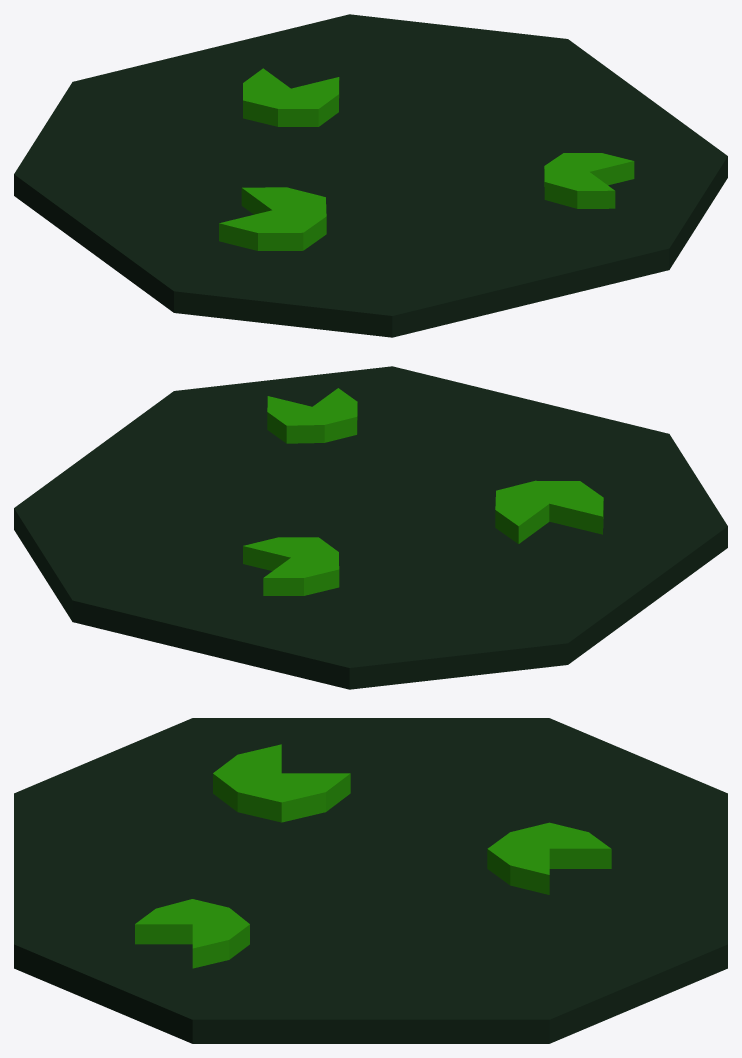
The model's file is swamp.fbx.
3 renders of one model, top to bottom at view 1: azimuth 30°, elevation 25°; view 2: azimuth 150°, elevation 25°; view 3: azimuth 270°, elevation 25°, orthographic. The views are drawn at different scales.
Parts seen in each view (by area): view 1: Plane001; view 2: Plane001; view 3: Plane001.
Boxes of the visible parts, box(x1,y1,x2,y2) form: Plane001: box(14, 14, 727, 337); Plane001: box(14, 366, 727, 689); Plane001: box(14, 718, 727, 1043).
Size of the model in its own units: 197 by 13.77 by 197.
